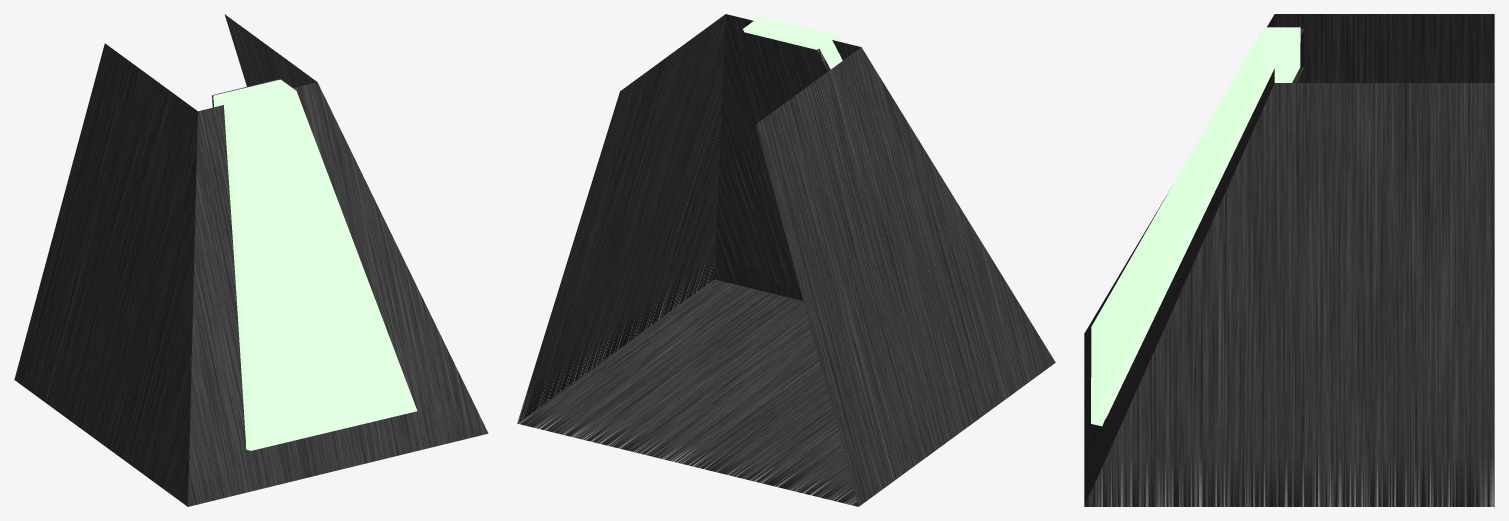
Rendered from CubeBaseFrontColumn2Lower.fbx.
3 renders of one model, left to right at view 1: azimuth 30°, elevation 25°; view 2: azimuth 150°, elevation 25°; view 3: azimuth 270°, elevation 25°, orthographic. The views are drawn at different scales.
Visible parts, largest first — view 1: polySurface3, pCube3; view 2: polySurface3, pCube3; view 3: polySurface3, pCube3.
Boxes of the visible parts, x1,y1,x2,y2 form: polySurface3: [14, 14, 488, 506]; pCube3: [213, 79, 417, 450]; polySurface3: [517, 14, 1055, 506]; pCube3: [742, 16, 842, 69]; polySurface3: [1084, 14, 1494, 506]; pCube3: [1091, 27, 1300, 426].
Size of the model in its own units: 1 by 1 by 1.
Materials: 2 (1 with a texture image).
